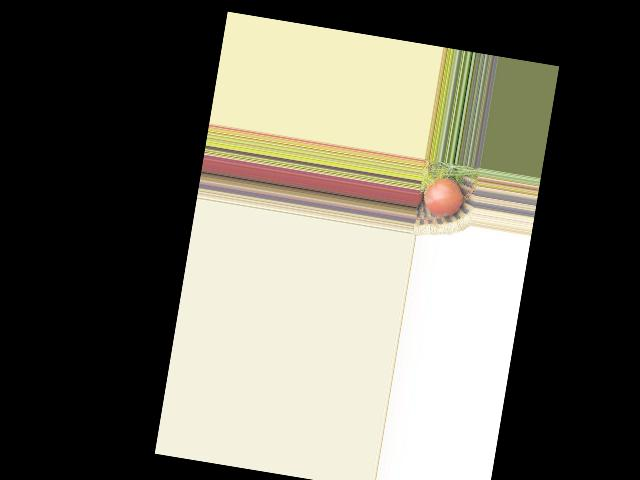tomato: (421, 174, 465, 219)
